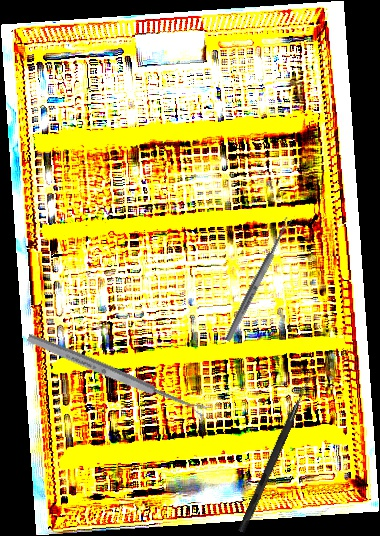Hook Surgical: (237, 373, 314, 534)
Surgical Spoon: (25, 331, 208, 419), (223, 216, 294, 343)
